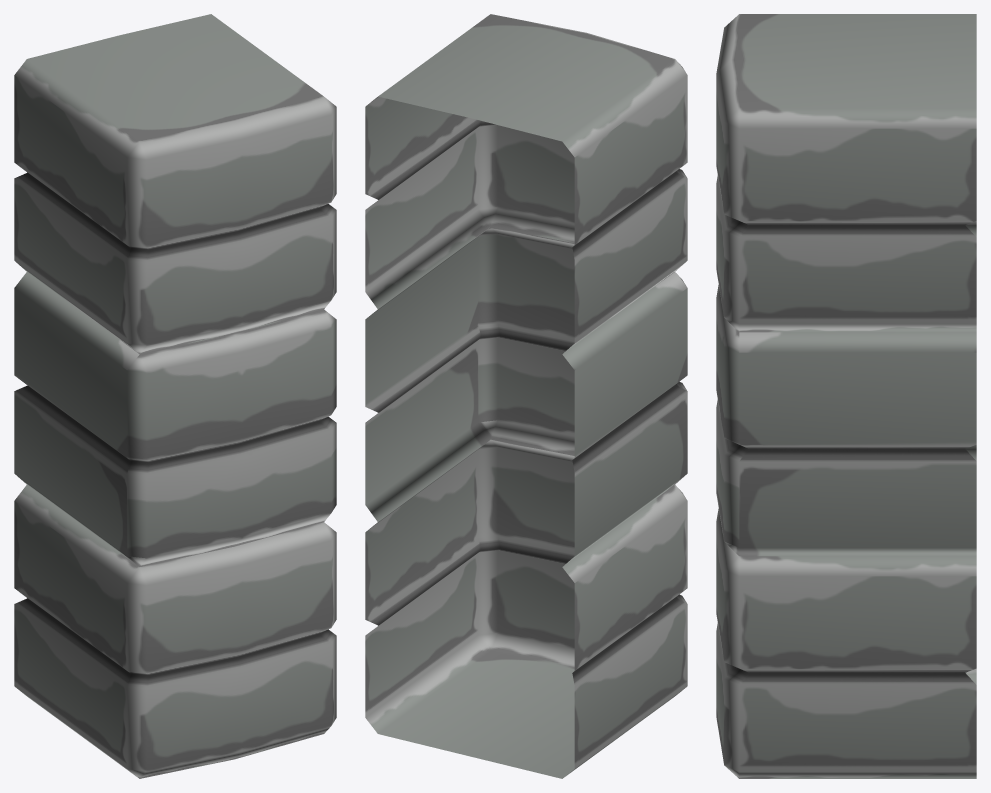
Rendered from mod_med_platwallA_02.fbx.
The picture shows the model from 3 angles, left to right: view 1: azimuth 30°, elevation 25°; view 2: azimuth 150°, elevation 25°; view 3: azimuth 270°, elevation 25°; orthographic projection. The views are drawn at different scales.
Visible parts, largest first — view 1: mod_med_platwall_a_01; view 2: mod_med_platwall_a_01; view 3: mod_med_platwall_a_01.
Boxes of the visible parts, x1,y1,x2,y2 form: mod_med_platwall_a_01: (14, 14, 336, 778); mod_med_platwall_a_01: (365, 14, 687, 778); mod_med_platwall_a_01: (716, 14, 976, 778).
Bounding box in the file's own units: 11.74 × 34.22 × 12.02.
